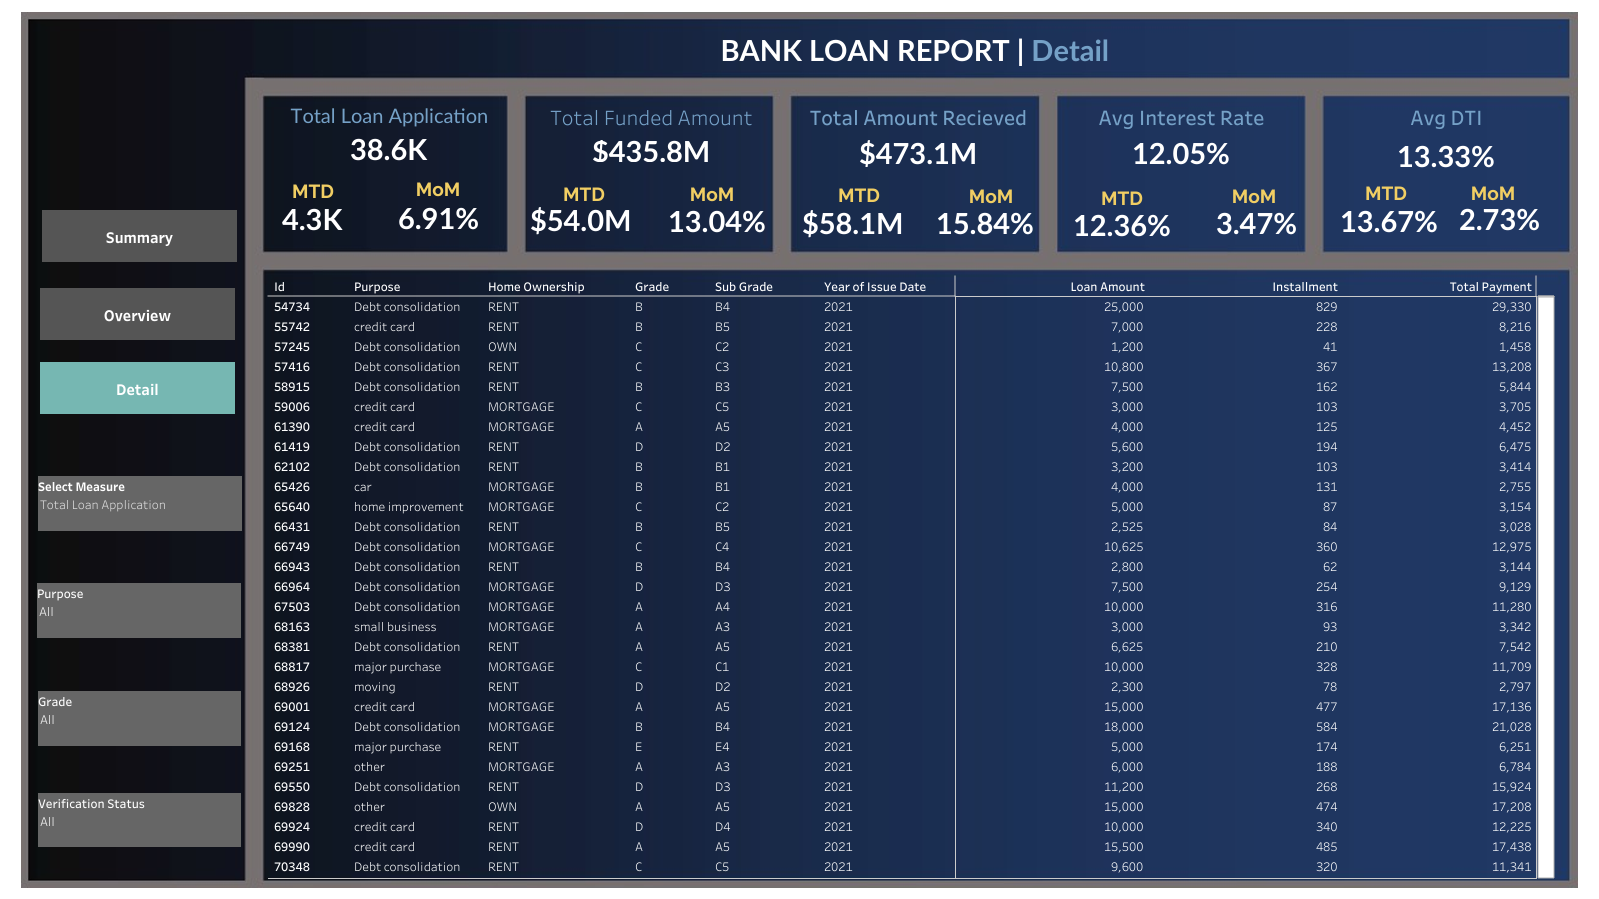

The dashboard page shown, as its layout file describes it:
{"tool":"tableau","page":{"name":"Detail","canvas":[1600,900],"ordinal":0},"visuals":[{"type":"image","param":"Image/Tableau Background 3.jpg","box":[8,8,1584,884]},{"type":"text","box":[718,32,466,36]},{"type":"image","param":"/var/opt/tableau/tableau_server/data/tabsvc/temp/vizqlserver_0.20243.24.1104.110","box":[72,50,145,146]},{"type":"worksheet","title":"Total Loan Application","mark":"Automatic","box":[267,97,245,64]},{"type":"worksheet","title":"Total Funded Amount","mark":"Automatic","box":[530,97,243,65]},{"type":"worksheet","title":"Total Amount Recieved","mark":"Automatic","box":[797,97,243,70]},{"type":"worksheet","title":"Avg Interest Rate","mark":"Automatic","box":[1059,97,245,69]},{"type":"worksheet","title":"Avg DTI","mark":"Automatic","box":[1325,97,243,76]},{"type":"text","box":[404,174,68,30]},{"type":"text","box":[279,176,68,30]},{"type":"text","box":[1352,178,68,30]},{"type":"text","box":[1459,178,68,30]},{"type":"text","box":[550,179,68,30]},{"type":"text","box":[678,179,68,30]},{"type":"text","box":[825,180,68,30]},{"type":"text","box":[957,181,68,30]},{"type":"text","box":[1220,181,68,30]},{"type":"text","box":[1088,183,68,30]},{"type":"worksheet","title":"MTD Total Amount Recieved","mark":"Automatic","box":[797,189,113,68]},{"type":"worksheet","title":"MoM Total Funded Amount","mark":"Automatic","box":[664,190,107,62]},{"type":"worksheet","title":"MoM Loan Application","mark":"Automatic","box":[389,193,101,50]},{"type":"worksheet","title":"MoM Avg DTI","mark":"Automatic","box":[1449,195,102,49]},{"type":"worksheet","title":"MoM Avg Interest Rate","mark":"Automatic","box":[1189,196,136,54]},{"type":"worksheet","title":"MoM Total Amount Recieved","mark":"Automatic","box":[932,197,106,52]},{"type":"worksheet","title":"MTD Avg DTI","mark":"Automatic","box":[1328,197,122,48]},{"type":"worksheet","title":"MTD Total Funded Amount","mark":"Automatic","box":[513,199,136,42]},{"type":"worksheet","title":"MTD Avg Interest Rate","mark":"Automatic","box":[1060,200,126,50]},{"type":"worksheet","title":"MTD Total Loan Application","mark":"Automatic","box":[263,204,100,31]},{"type":"dashboard-object","box":[42,210,195,52]},{"type":"worksheet","title":"Detail Tab","mark":"Automatic","rows":["id","purpose","home_ownership","grade","sub_grade","issue_date"],"box":[268,276,1287,603]},{"type":"dashboard-object","box":[40,288,195,52]},{"type":"dashboard-object","box":[40,362,195,52]},{"type":"parameter","param":"[Parameters].[Parameter 1]","box":[38,476,204,55]},{"type":"filter","title":"Avg DTI","param":"[federated.0mmfcsv0gbctox1frqz0318h6qjj].[none:purpose:nk]","box":[37,583,204,55]},{"type":"filter","title":"Avg DTI","param":"[federated.0mmfcsv0gbctox1frqz0318h6qjj].[none:grade:nk]","box":[38,691,203,55]},{"type":"filter","title":"Avg DTI","param":"[federated.0mmfcsv0gbctox1frqz0318h6qjj].[none:verification_status:nk]","box":[38,793,203,54]}]}

Visuals, with their boxes in screenshot pixels (x1, y1, x2, y2), scaled from the page's 1600x900 canvas onto the 1599x899 screenshot:
image: 8, 8, 1591, 891
text: 718, 32, 1183, 68
image: 72, 50, 217, 196
"Total Loan Application" worksheet: 267, 97, 512, 161
"Total Funded Amount" worksheet: 530, 97, 773, 162
"Total Amount Recieved" worksheet: 797, 97, 1039, 167
"Avg Interest Rate" worksheet: 1058, 97, 1303, 166
"Avg DTI" worksheet: 1324, 97, 1567, 173
text: 404, 174, 472, 204
text: 279, 176, 347, 206
text: 1351, 178, 1419, 208
text: 1458, 178, 1526, 208
text: 550, 179, 618, 209
text: 678, 179, 746, 209
text: 824, 180, 892, 210
text: 956, 181, 1024, 211
text: 1219, 181, 1287, 211
text: 1087, 183, 1155, 213
"MTD Total Amount Recieved" worksheet: 797, 189, 909, 257
"MoM Total Funded Amount" worksheet: 664, 190, 771, 252
"MoM Loan Application" worksheet: 389, 193, 490, 243
"MoM Avg DTI" worksheet: 1448, 195, 1550, 244
"MoM Avg Interest Rate" worksheet: 1188, 196, 1324, 250
"MoM Total Amount Recieved" worksheet: 931, 197, 1037, 249
"MTD Avg DTI" worksheet: 1327, 197, 1449, 245
"MTD Total Funded Amount" worksheet: 513, 199, 649, 241
"MTD Avg Interest Rate" worksheet: 1059, 200, 1185, 250
"MTD Total Loan Application" worksheet: 263, 204, 363, 235
dashboard-object: 42, 210, 237, 262
"Detail Tab" worksheet: 268, 276, 1554, 878
dashboard-object: 40, 288, 235, 340
dashboard-object: 40, 362, 235, 414
parameter: 38, 475, 242, 530
"Avg DTI" filter: 37, 582, 241, 637
"Avg DTI" filter: 38, 690, 241, 745
"Avg DTI" filter: 38, 792, 241, 846
